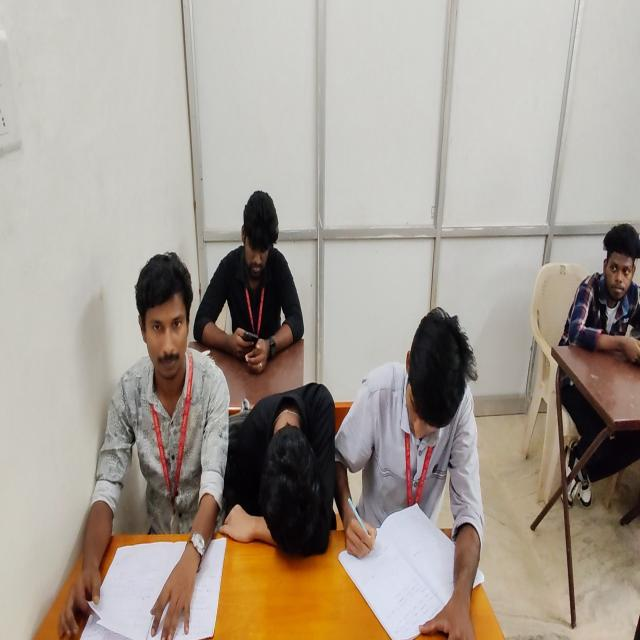listening: (59, 252, 233, 640), (556, 220, 640, 511)
sleeping: (217, 378, 335, 560)
using_mobile: (192, 189, 306, 368)
writing: (343, 308, 480, 640)
